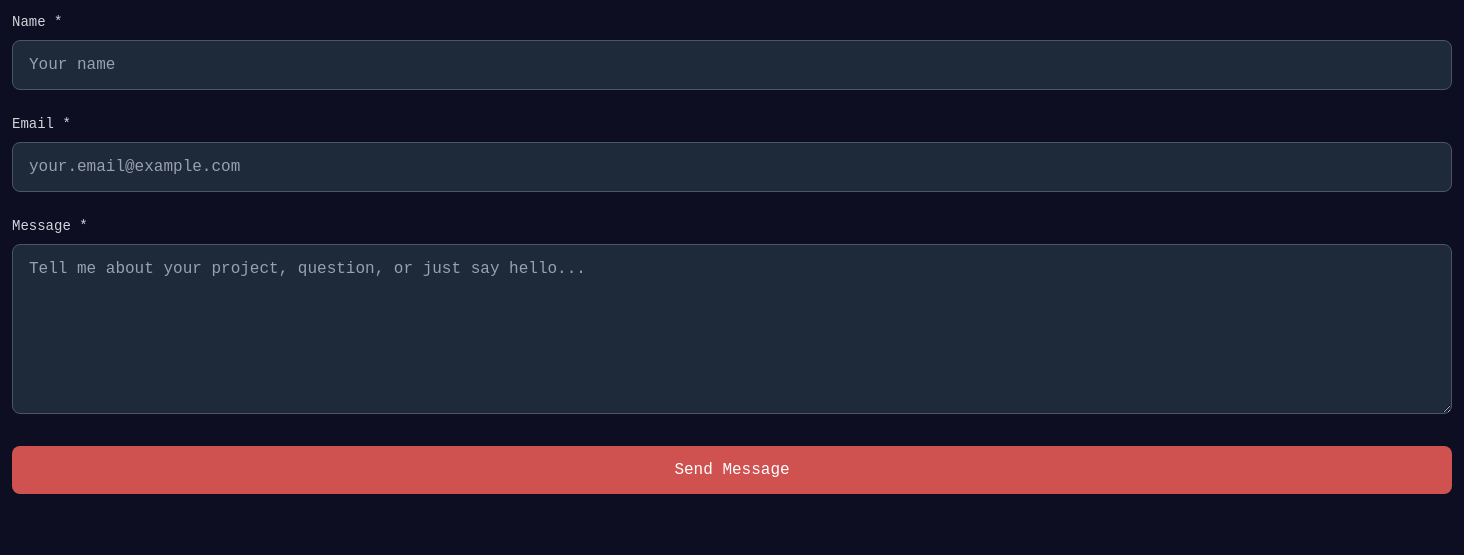
Test: ContactForm › form validation › should validate message minimum length
Type "John Doe" into the field labelled "Name *".
click(732, 65); type("John Doe")  # box [12, 40, 1452, 90]
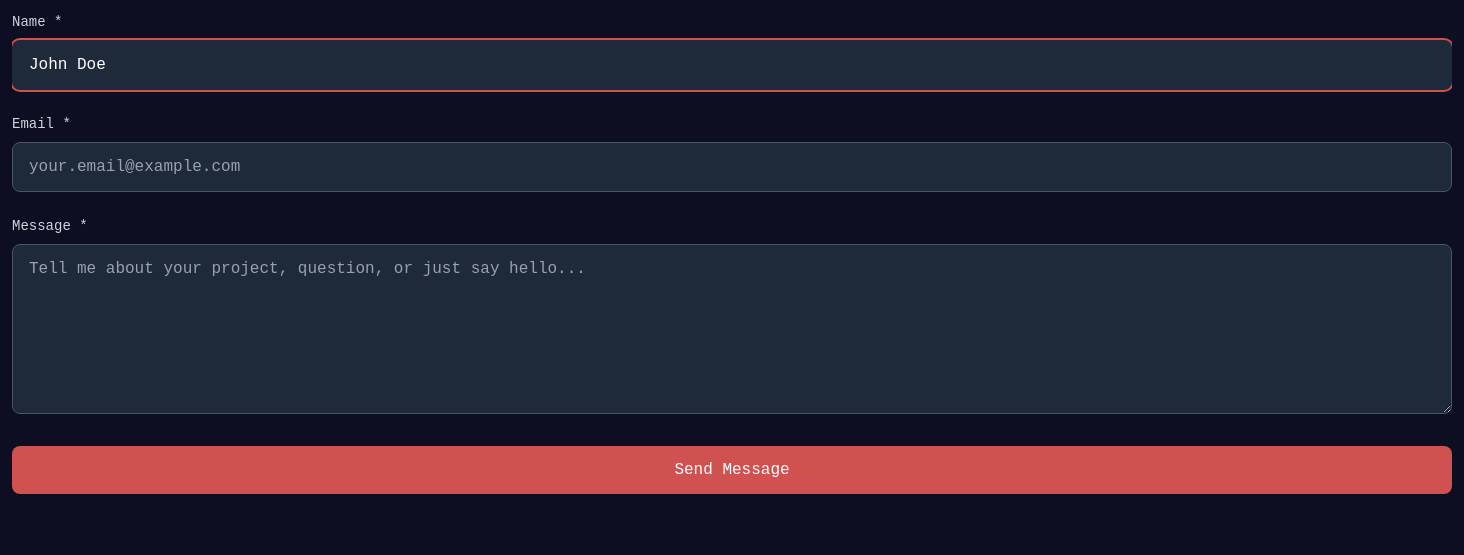
Type "john@example.com" into the field labelled "Email *".
click(732, 167); type("john@example.com")  # box [12, 142, 1452, 192]
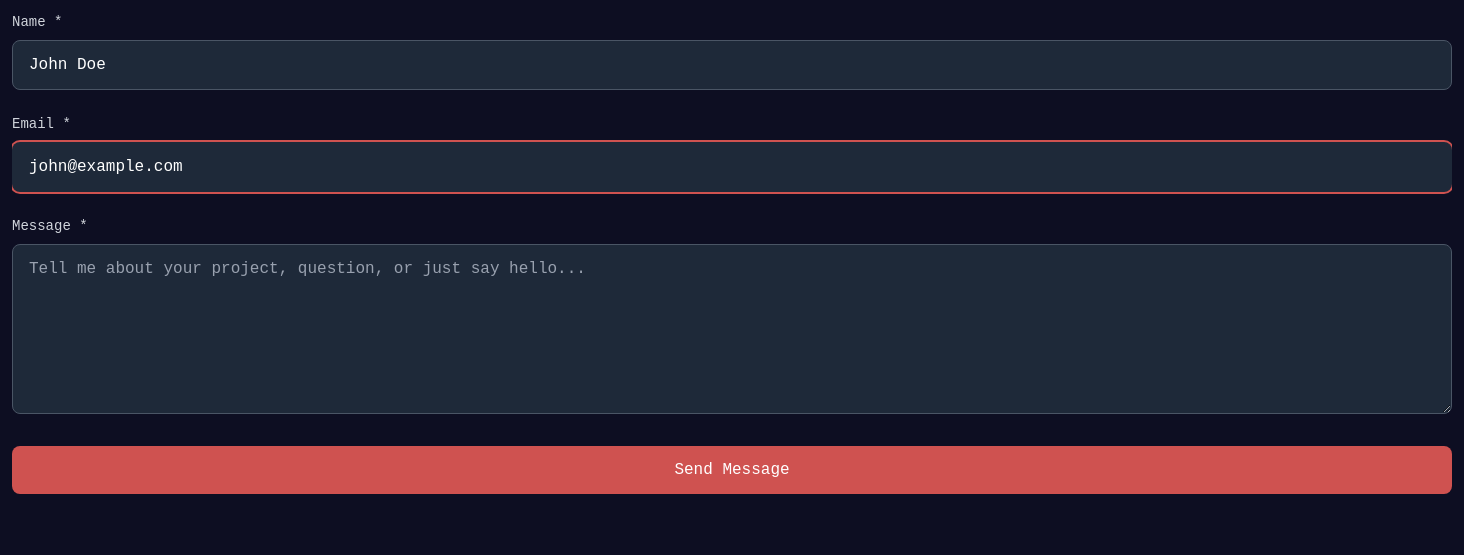
Type "short" into the text box labelled "Message *".
click(732, 329); type("short")  # box [12, 244, 1452, 414]
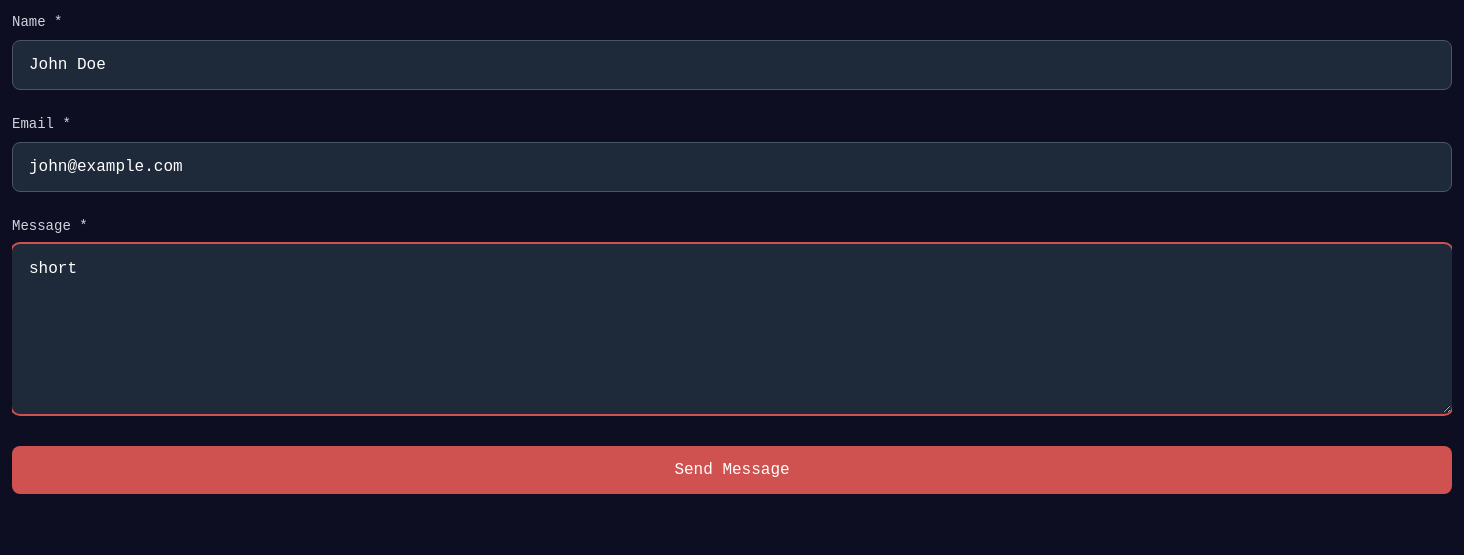
Click the button "Send Message".
click(732, 470)  # box [12, 446, 1452, 494]
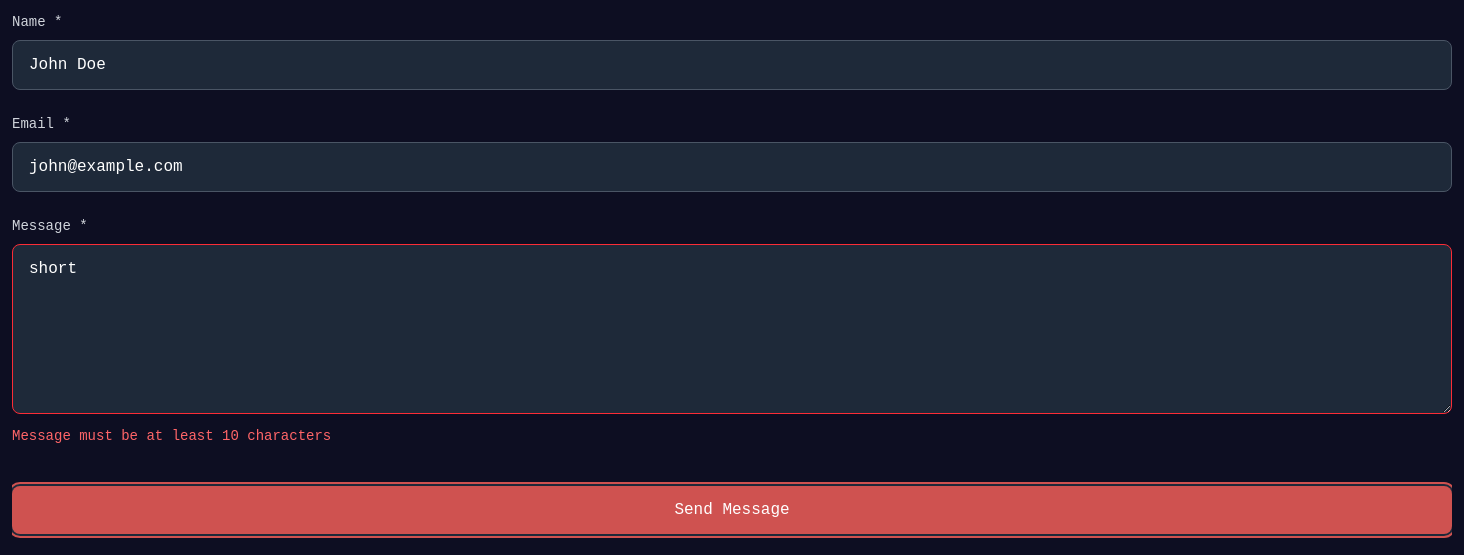
Now the text "Message must be at least 10 characters" is shown, box [12, 428, 331, 444]
